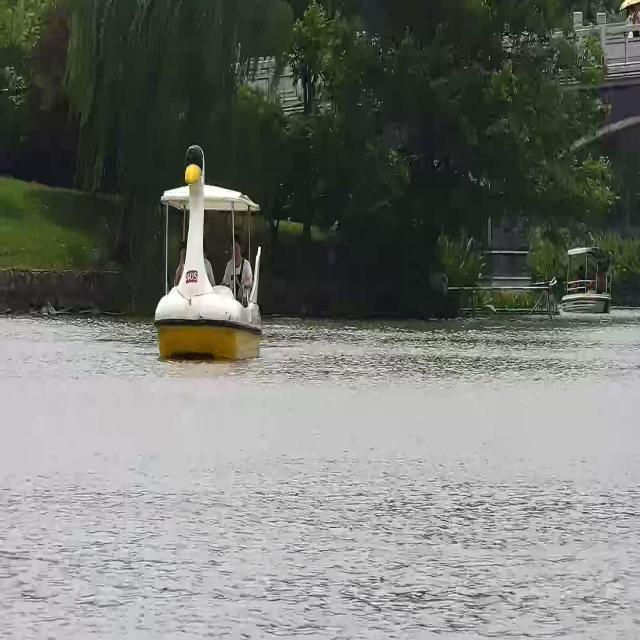ship2: (154, 146, 261, 362)
